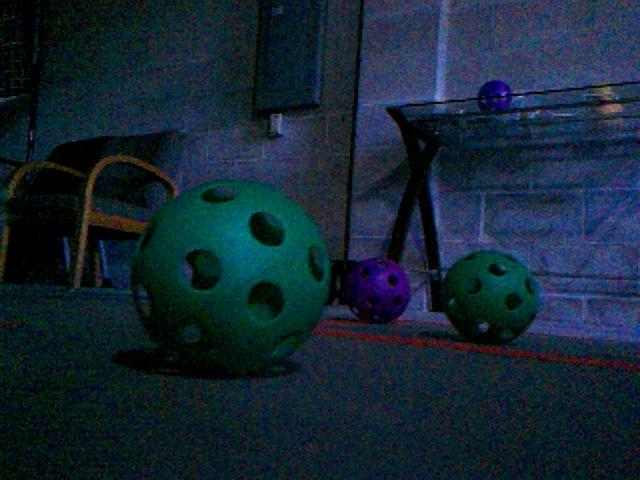Green: (128, 179, 329, 370), (438, 248, 540, 342)
Purple: (346, 257, 410, 324), (476, 79, 513, 112), (478, 80, 512, 112)
